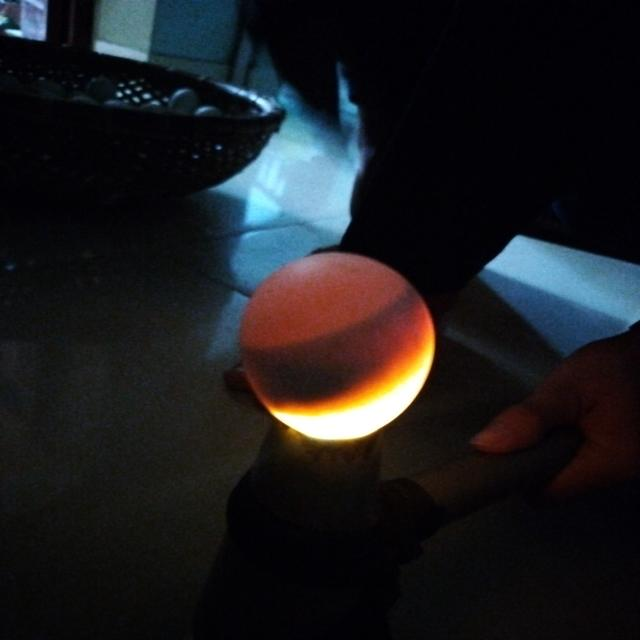Area Infectada: (241, 288, 413, 405)
